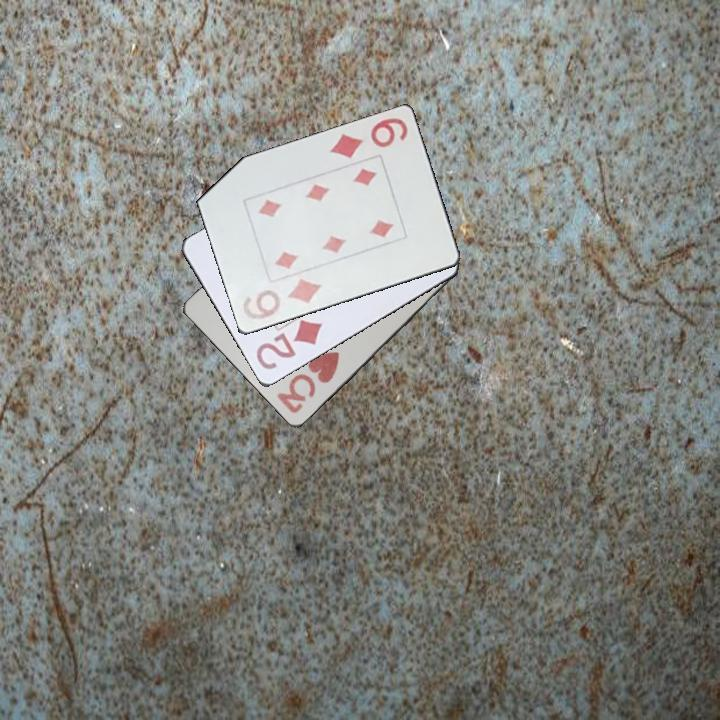2d: (252, 317, 328, 373)
3h: (273, 347, 342, 417)
6d: (238, 275, 324, 323), (326, 114, 411, 162)
